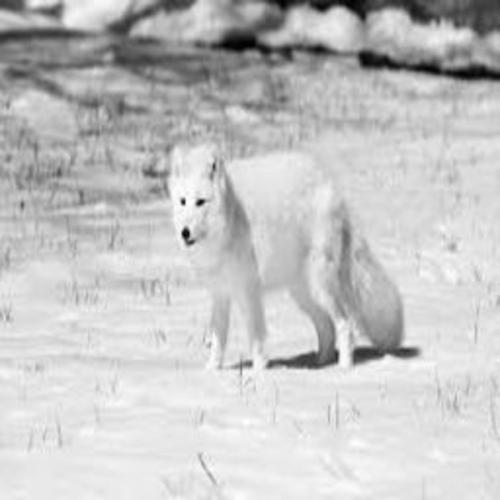arctic_fox-endangered: (167, 145, 401, 368)
